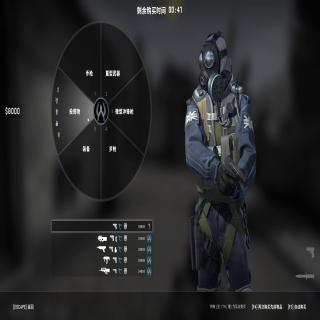CT-Body: (184, 30, 257, 292)
CT-Head: (195, 31, 228, 87)
